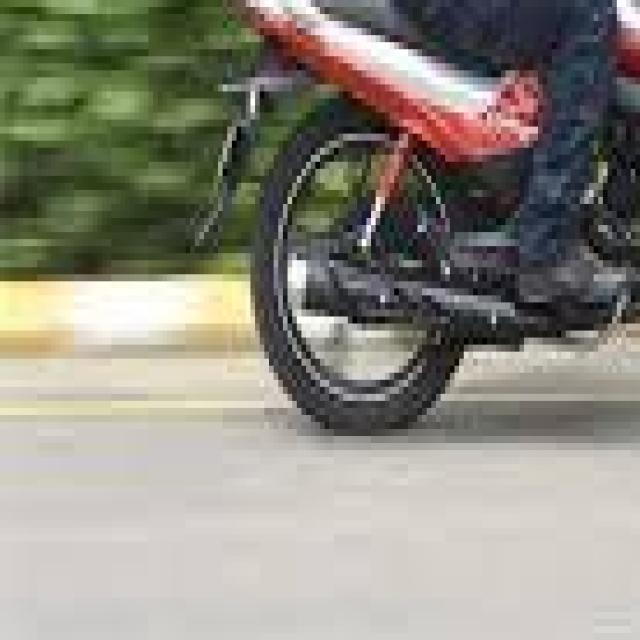bike: (208, 0, 640, 450)
